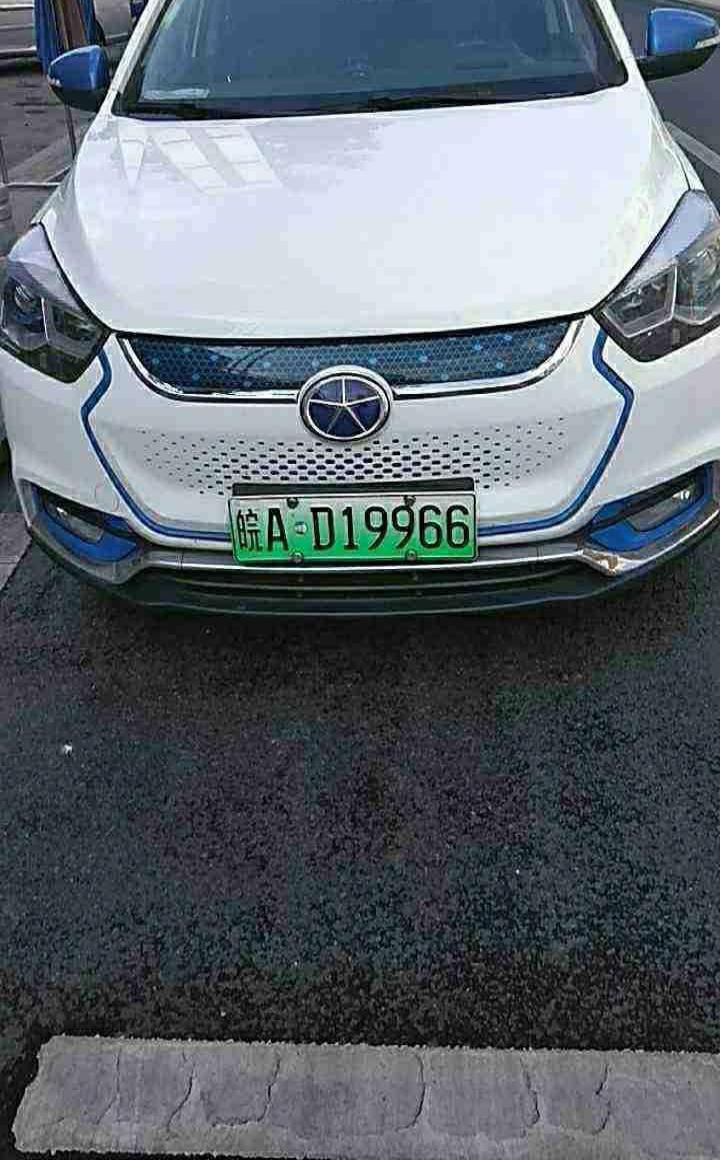car_id: (226, 492, 477, 560)
